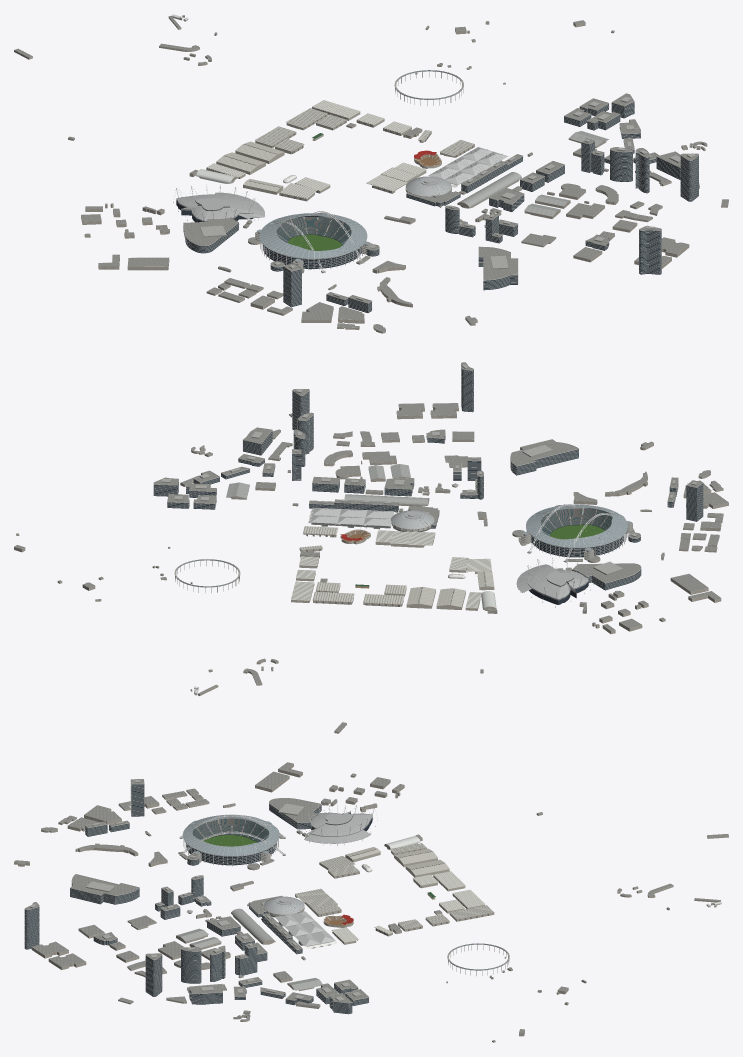
The model's file is engie_part2.glb.
3 renders of one model, top to bottom at view 1: azimuth 30°, elevation 25°; view 2: azimuth 150°, elevation 25°; view 3: azimuth 270°, elevation 25°, orthographic. The views are drawn at different scales.
Parts seen in each view (by area): view 1: surr_town, surr_showground, surr_towers, surr_accor, surr_arena; view 2: surr_town, surr_showground, surr_accor, surr_towers, surr_arena; view 3: surr_town, surr_showground, surr_towers, surr_accor, surr_arena.
Boxes of the visible parts, x1,y1,x2,y2 form: surr_town: (14, 15, 728, 333); surr_showground: (171, 14, 509, 201); surr_towers: (283, 93, 698, 307); surr_accor: (255, 211, 372, 273); surr_arena: (173, 184, 264, 224); surr_town: (14, 403, 728, 733); surr_showground: (174, 507, 496, 695); surr_accor: (521, 504, 632, 562); surr_towers: (153, 362, 703, 521); surr_arena: (516, 557, 593, 607); surr_town: (14, 762, 728, 1042); surr_showground: (263, 836, 721, 975); surr_towers: (24, 779, 352, 1014); surr_accor: (179, 814, 285, 866); surr_arena: (304, 803, 377, 845).
Bounding box in the file's own units: 1894 × 147 × 2062.
Materials: 50 (50 with a texture image).
